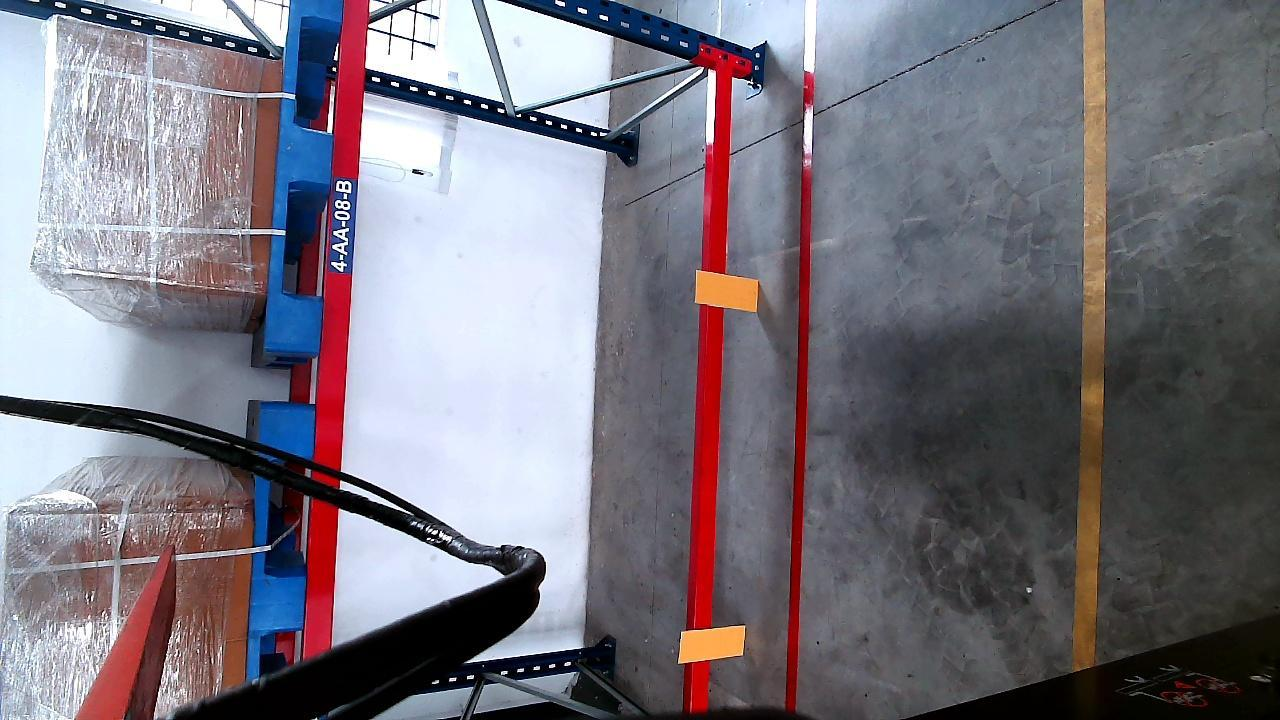red_line: (784, 1, 817, 711)
yellow_line: (1077, 0, 1106, 672)
